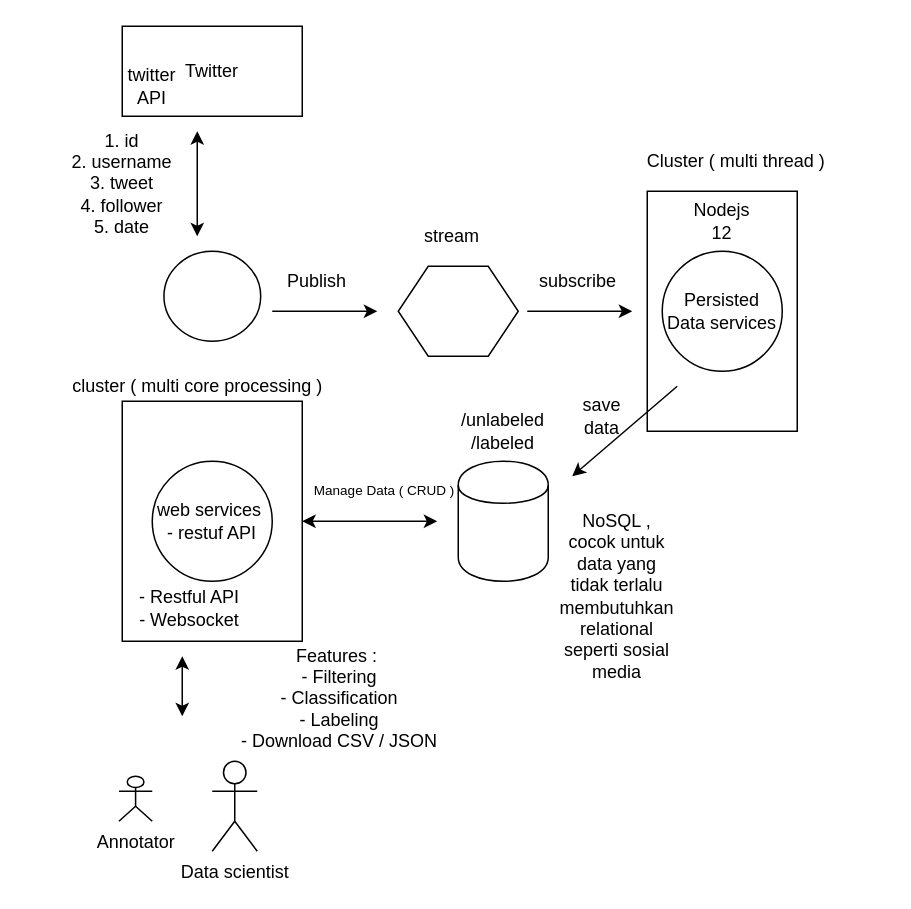
The diagram is 911 pixels wide and 909 high, and some of its shapes have lost their labels. The shapes that lost their labels are listed below. From the top down, each one's centre as x and y in pixels, then its label:
At point (211, 295): "scraper service".
At point (457, 310): "Redis".
At point (502, 520): "MongoDB".
